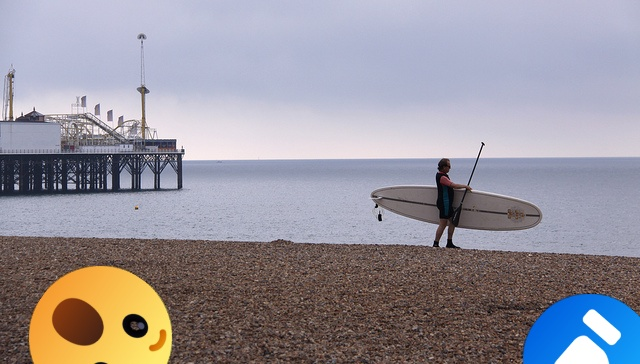like: (523, 294, 640, 364)
wow: (29, 266, 172, 364)
